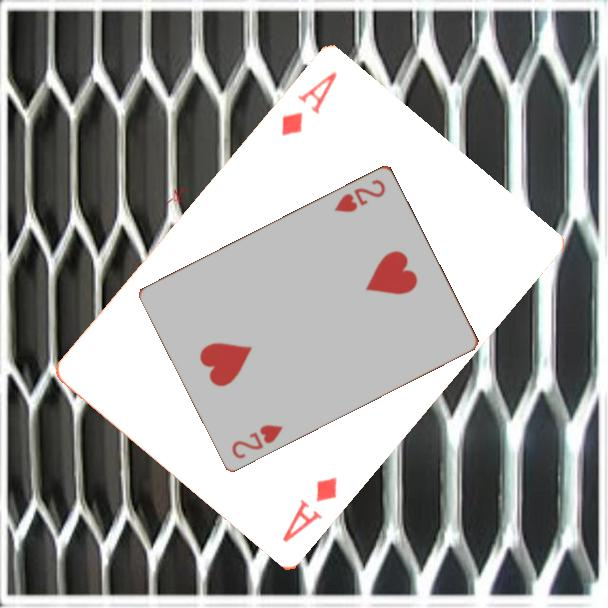d01: (277, 68, 341, 140), (278, 474, 341, 546)
h02: (228, 420, 286, 461), (331, 175, 389, 215)
